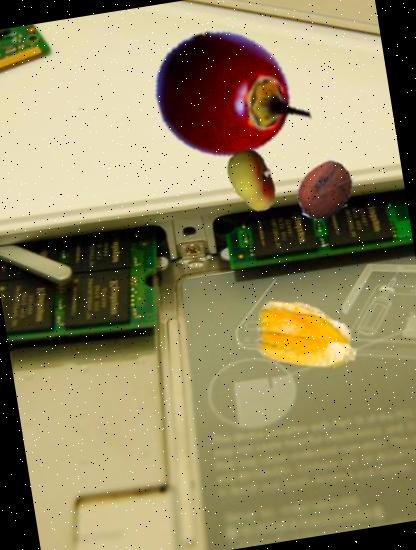Cocos: (290, 155, 360, 226)
Peach: (216, 144, 290, 218)
Physalis: (248, 276, 367, 394)
Tamarillo: (145, 7, 313, 175)
